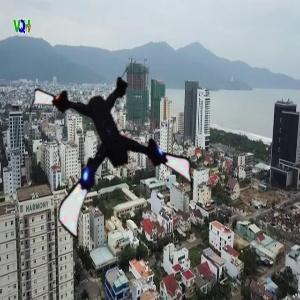drone: (36, 70, 198, 232)
